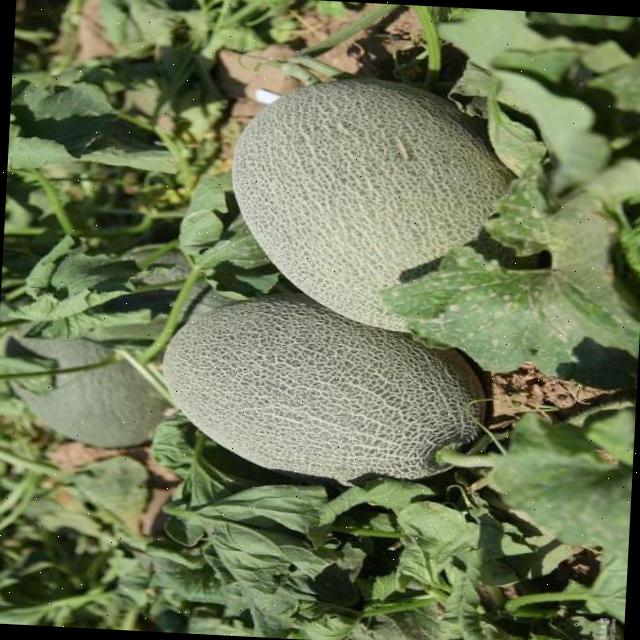Hami Melon: (224, 70, 527, 338), (155, 291, 496, 486)
